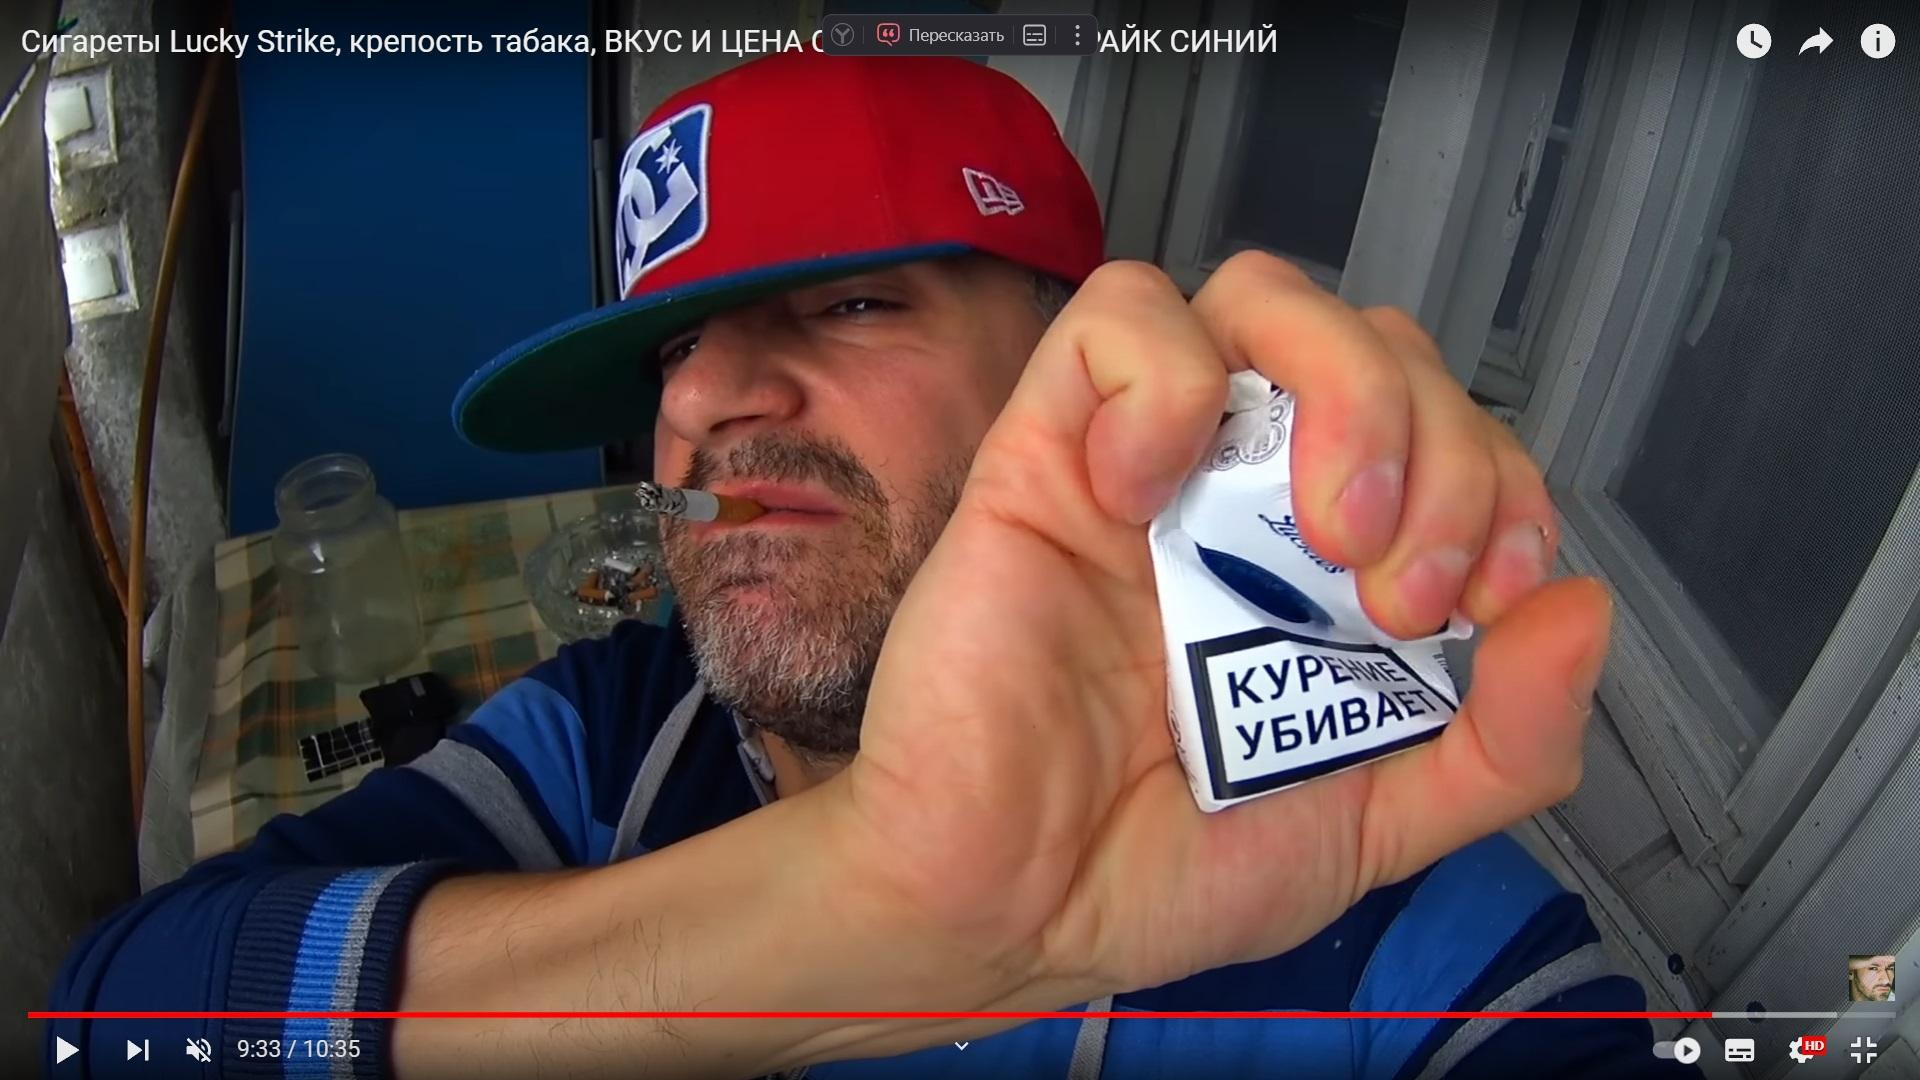cigarette: (634, 480, 767, 522)
